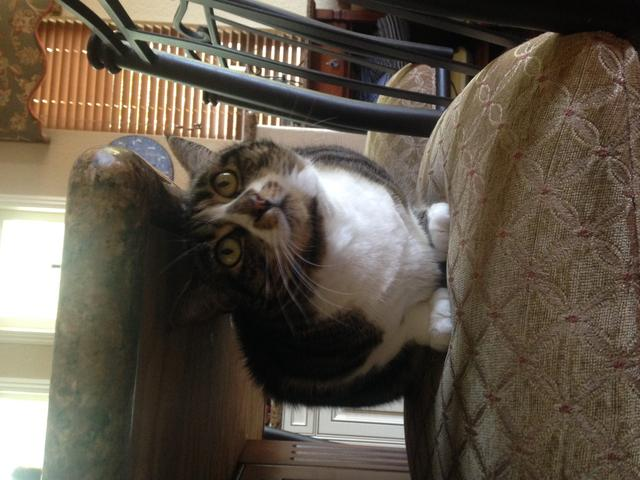playdoh: (157, 133, 457, 413)
